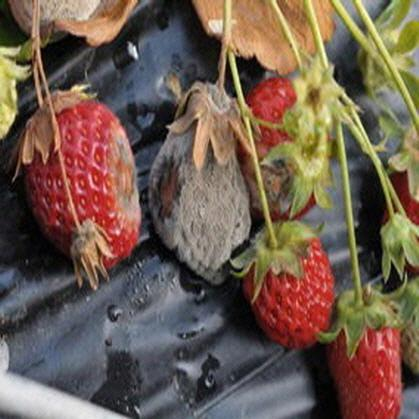Gray Mold: (148, 80, 253, 285), (98, 124, 141, 229)
